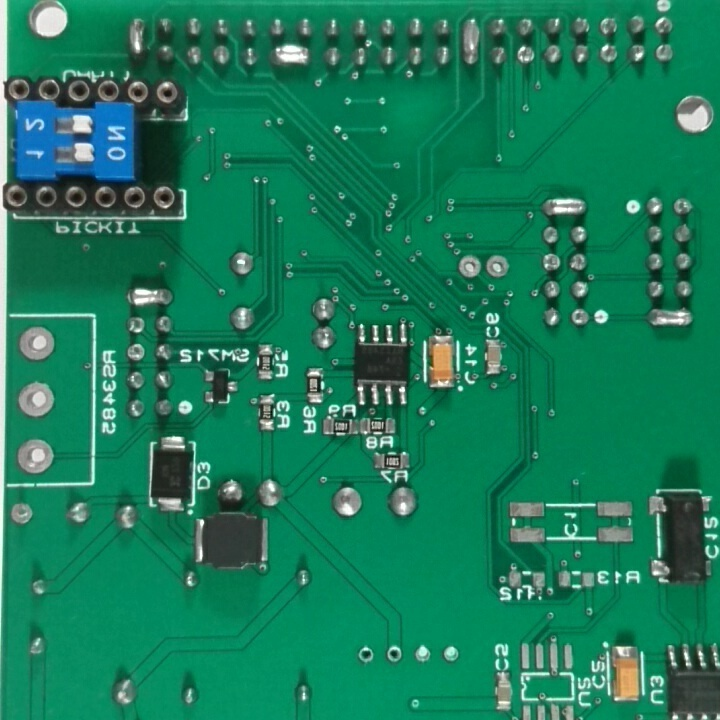F: (13, 323, 61, 363), (13, 435, 56, 479), (15, 378, 59, 419), (484, 252, 512, 282), (456, 251, 483, 282), (7, 500, 37, 526), (409, 641, 436, 665), (652, 14, 676, 40), (439, 640, 463, 666), (539, 250, 564, 274), (124, 342, 149, 366), (513, 45, 539, 66), (570, 306, 592, 330), (671, 195, 693, 219), (596, 17, 620, 38), (356, 646, 377, 669), (384, 643, 403, 667)
P: (539, 193, 594, 223), (268, 40, 313, 72), (643, 307, 699, 332), (123, 284, 176, 309), (459, 15, 483, 68), (127, 13, 147, 60)
